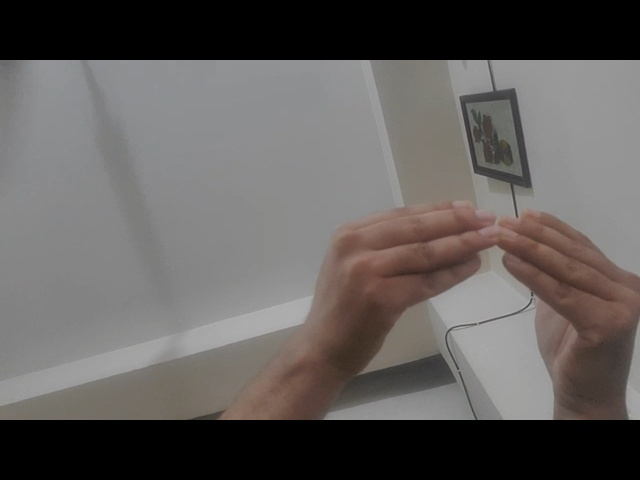Thank you: (283, 188, 637, 415)
